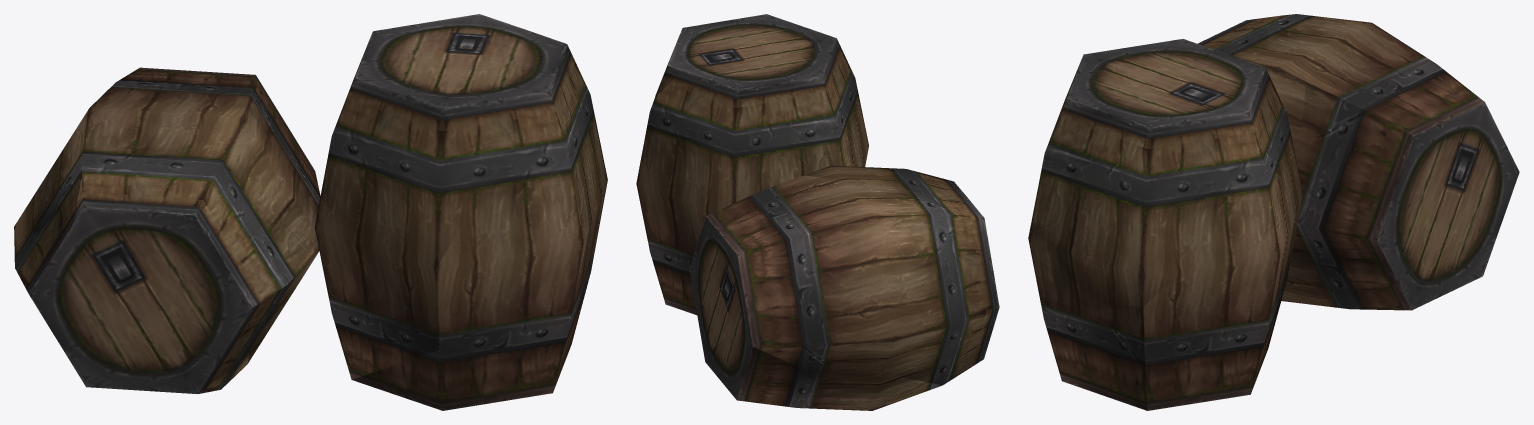
Rendered from mutong04@idle.FBX.
The picture shows the model from 3 angles, left to right: view 1: azimuth 30°, elevation 25°; view 2: azimuth 150°, elevation 25°; view 3: azimuth 270°, elevation 25°; orthographic projection. The views are drawn at different scales.
Parts seen in each view (by area): view 1: mutong_po07, Object09, mutong_po11, Object15, mutong_po10, mutong_po06, Object14, Object13, Object08, Object05; view 2: Object15, Object08, Object14, Object09, mutong_po10, mutong_po11, mutong_po06, Object05, mutong_po07, Object13; view 3: mutong_po10, Object08, mutong_po06, Object15, mutong_po07, Object05, mutong_po11, Object09, Object13.
Boxes of the visible parts, x1,y1,x2,y2 form: mutong_po07: (352,68,601,410); Object09: (314,55,476,379); mutong_po11: (130,107,318,307); Object15: (14,67,255,386); mutong_po10: (161,75,320,393); mutong_po06: (460,30,607,246); Object14: (86,301,249,393); Object13: (73,166,143,304); Object08: (336,17,458,124); Object05: (441,14,526,62); Object15: (706,175,999,385); Object08: (636,60,837,315); Object14: (737,347,942,410); Object09: (751,38,868,173); mutong_po10: (689,216,752,399); mutong_po11: (805,165,967,197); mutong_po06: (662,14,766,77); Object05: (655,45,755,97); mutong_po07: (758,14,836,45); Object13: (930,197,987,235); mutong_po10: (1281,82,1519,310); Object08: (1143,39,1302,410); mutong_po06: (1028,82,1223,306); Object15: (1267,14,1519,191); mutong_po07: (1028,54,1147,410); Object05: (1164,79,1261,175); mutong_po11: (1198,28,1305,133); Object09: (1062,39,1186,105); Object13: (1210,15,1281,37).
Bounding box in the file's own units: 2.11 × 1.24 × 1.9.
